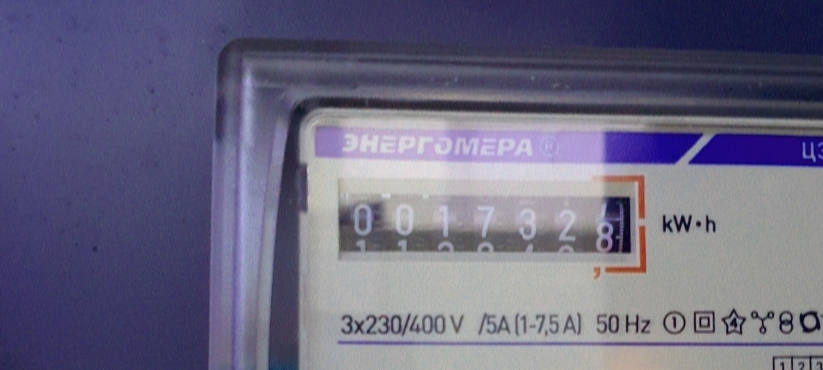0: (353, 200, 375, 237), (394, 202, 415, 236)
1: (437, 202, 452, 238)
2: (556, 207, 577, 243)
3: (516, 206, 539, 241)
7: (474, 202, 498, 240)
8: (594, 219, 614, 254)
screen: (328, 175, 651, 276)
